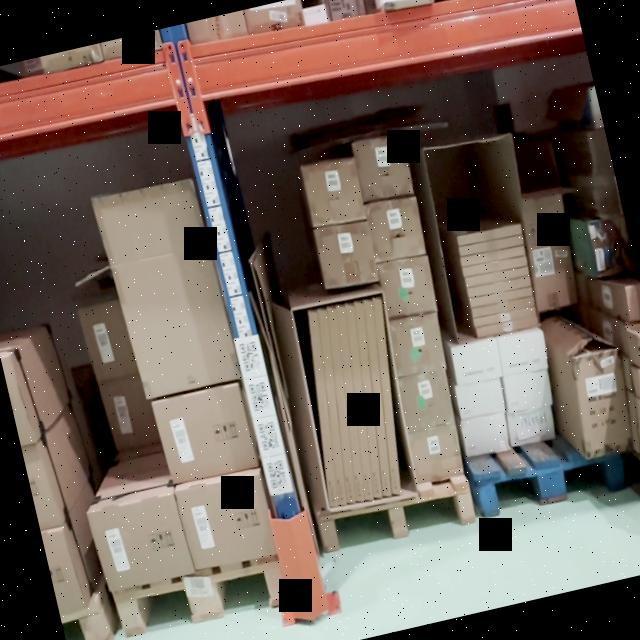box: (92, 181, 241, 398), (88, 492, 194, 593), (153, 387, 257, 482), (176, 474, 276, 570), (575, 352, 635, 457), (301, 157, 366, 227), (312, 219, 378, 287), (365, 197, 425, 261), (354, 134, 413, 199), (377, 256, 436, 317), (398, 370, 455, 432), (408, 423, 464, 485), (390, 315, 443, 376), (451, 338, 502, 385), (503, 369, 554, 413), (461, 412, 510, 455), (498, 332, 547, 374), (454, 378, 506, 417), (507, 409, 556, 446)
